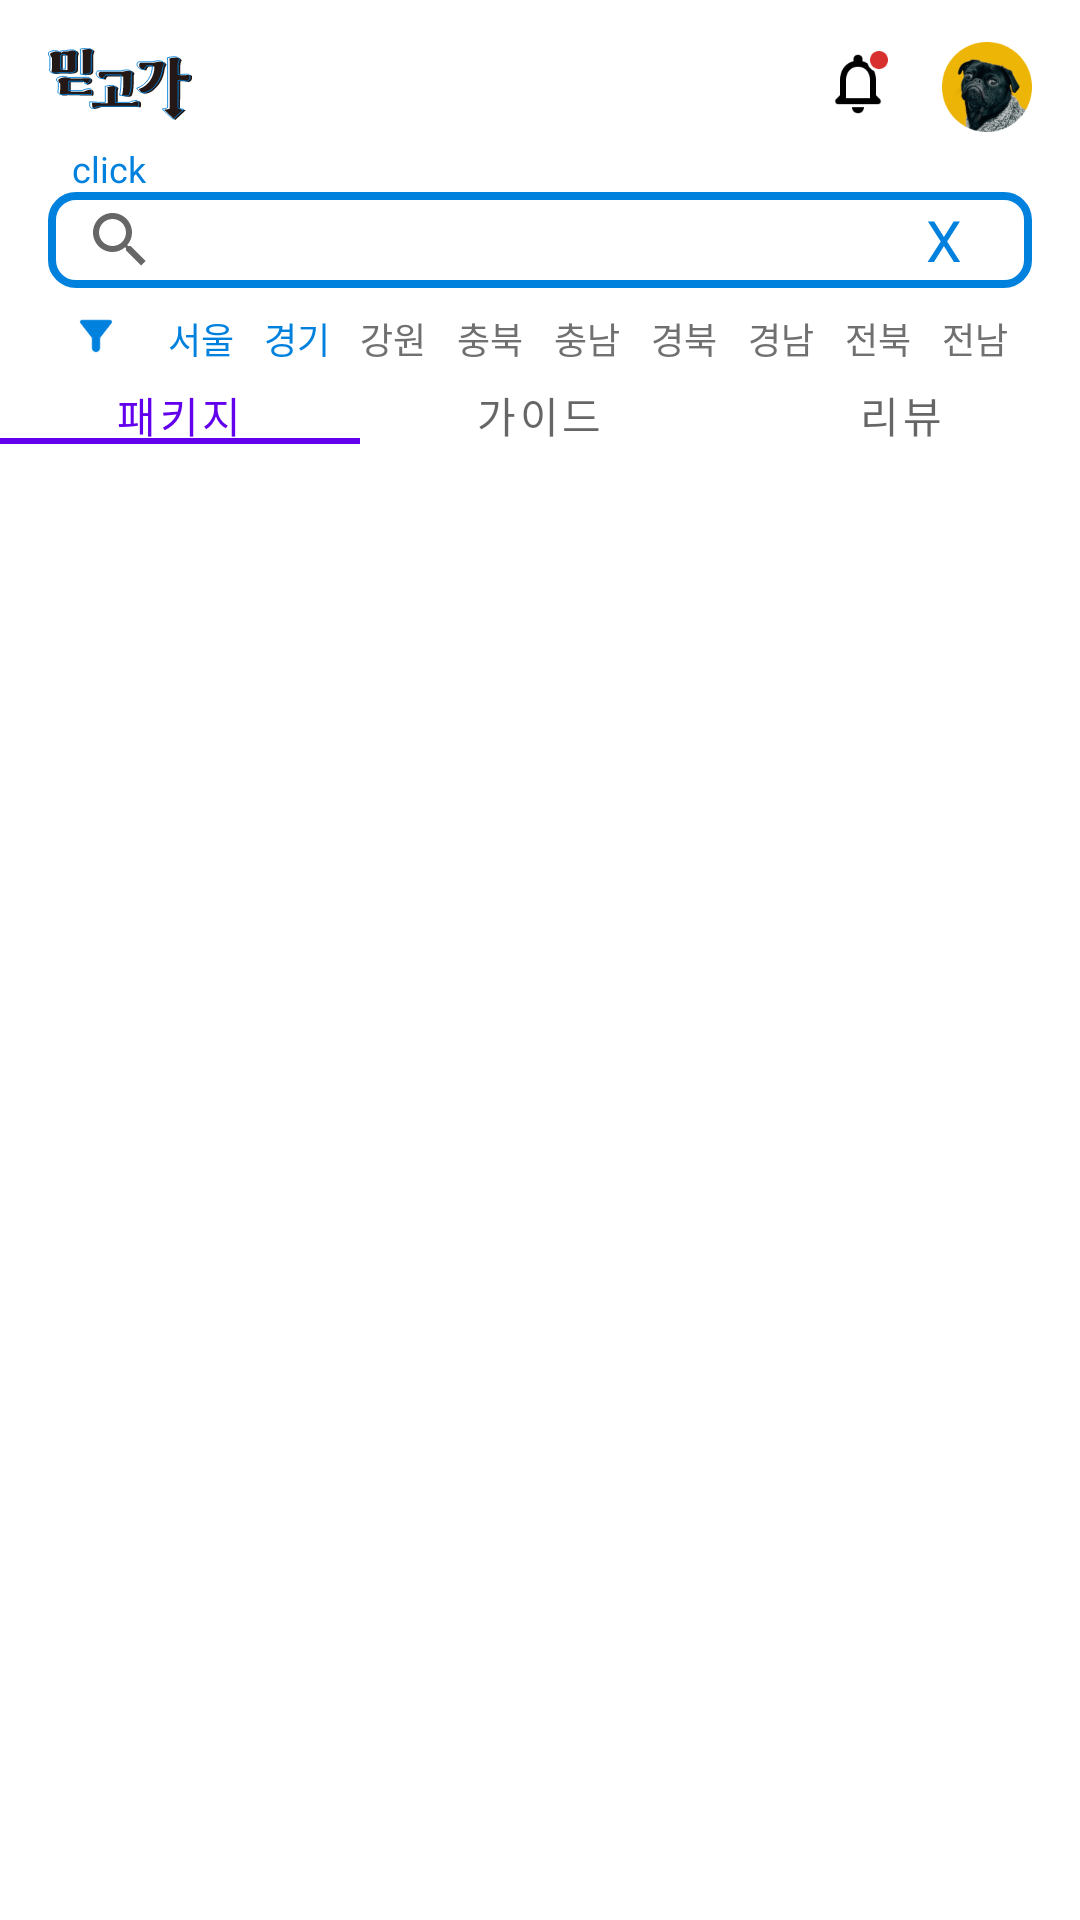

Locate icon controls on the screen. Image size 1080 × 1920, boxes as detection(x1, y1, x2, y2).
alarm: detection(835, 51, 888, 114)
filter: detection(80, 319, 112, 353)
profil: detection(942, 42, 1032, 132)
